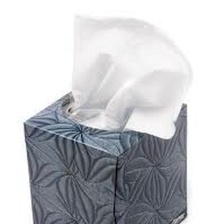tissue: (61, 6, 197, 144)
